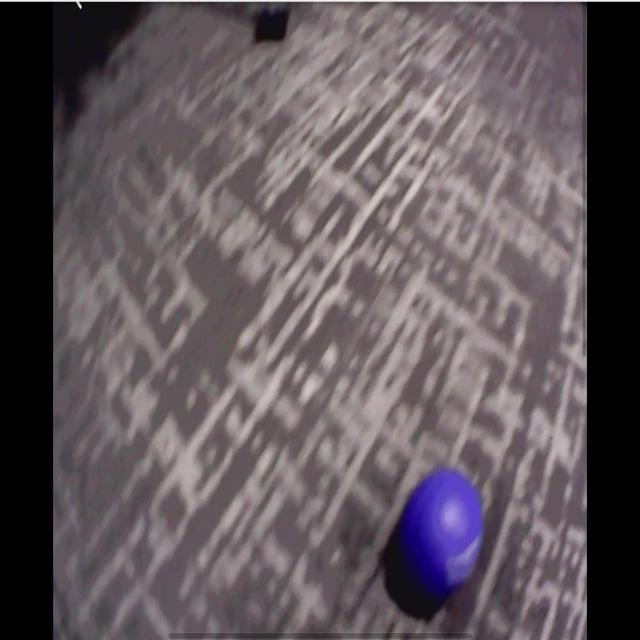ball: (412, 472, 482, 587)
